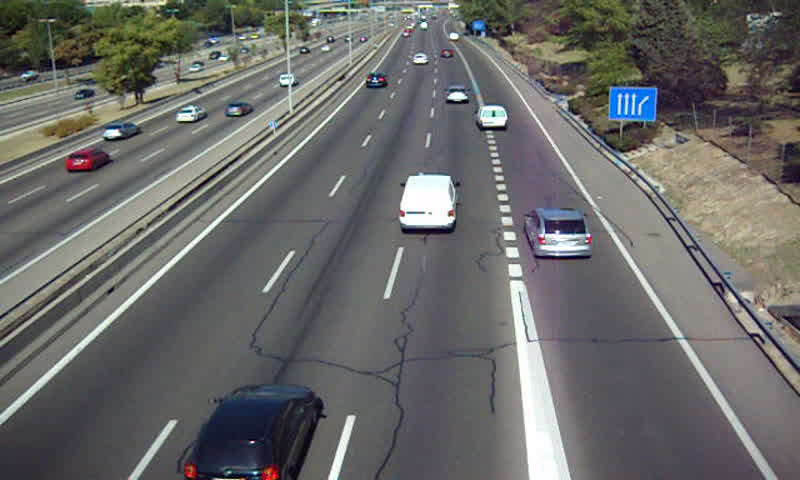car: (181, 385, 316, 480), (525, 208, 593, 259), (443, 86, 472, 105), (366, 72, 388, 89), (410, 51, 429, 64)
van: (399, 175, 456, 231), (477, 106, 508, 130)
